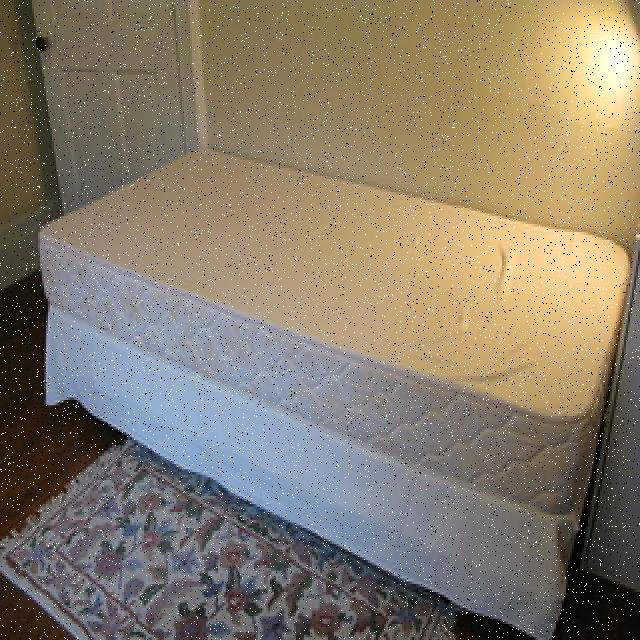bed: (53, 137, 627, 583)
